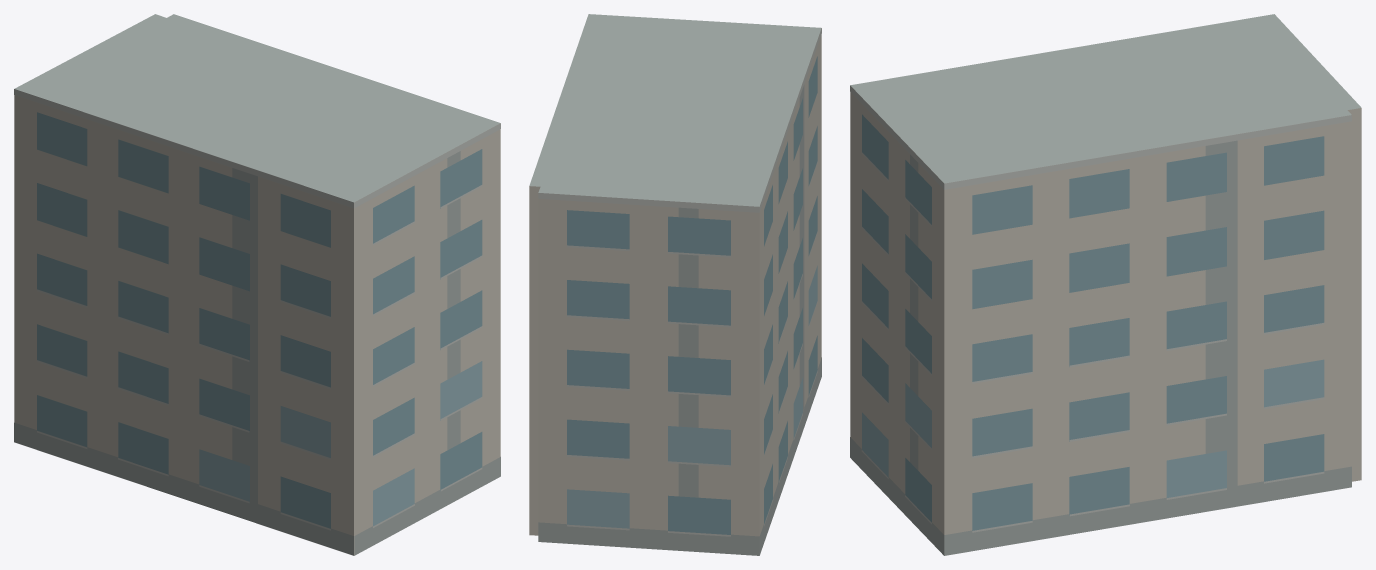
File: survey-upis-32890854.glb
3 views of the same model, side by side, from view 1: azimuth 30°, elevation 25°; view 2: azimuth 150°, elevation 25°; view 3: azimuth 270°, elevation 25° (orthographic). The views are drawn at different scales.
Visible parts, largest first — view 1: survey-upis-32890854.tmp; view 2: survey-upis-32890854.tmp; view 3: survey-upis-32890854.tmp.
Part boxes in pixels (box(x1,y1,x2,y2)): survey-upis-32890854.tmp: box(14, 14, 500, 555); survey-upis-32890854.tmp: box(529, 14, 821, 555); survey-upis-32890854.tmp: box(850, 14, 1361, 555).
Size of the model in its own units: 13.98 by 14.3 by 17.82.
